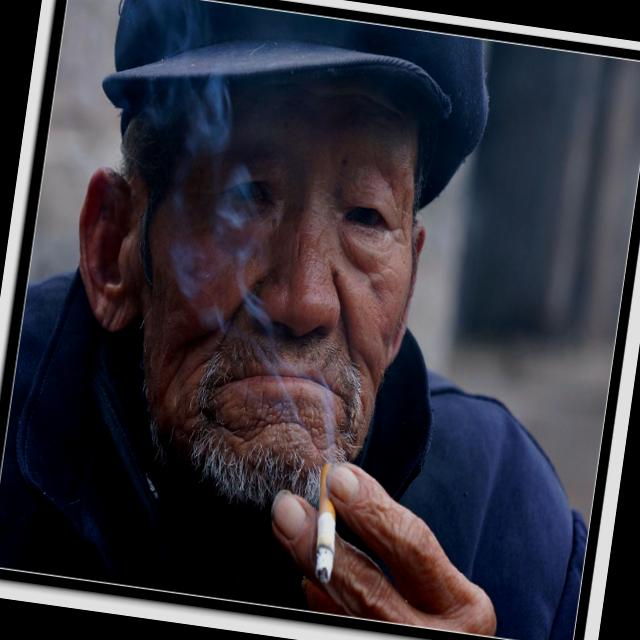smoke: (301, 444, 350, 594)
